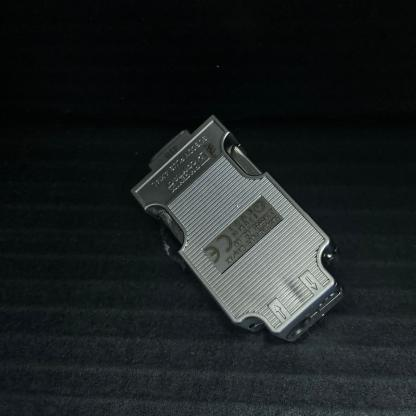SP0000010: (104, 88, 360, 370)
